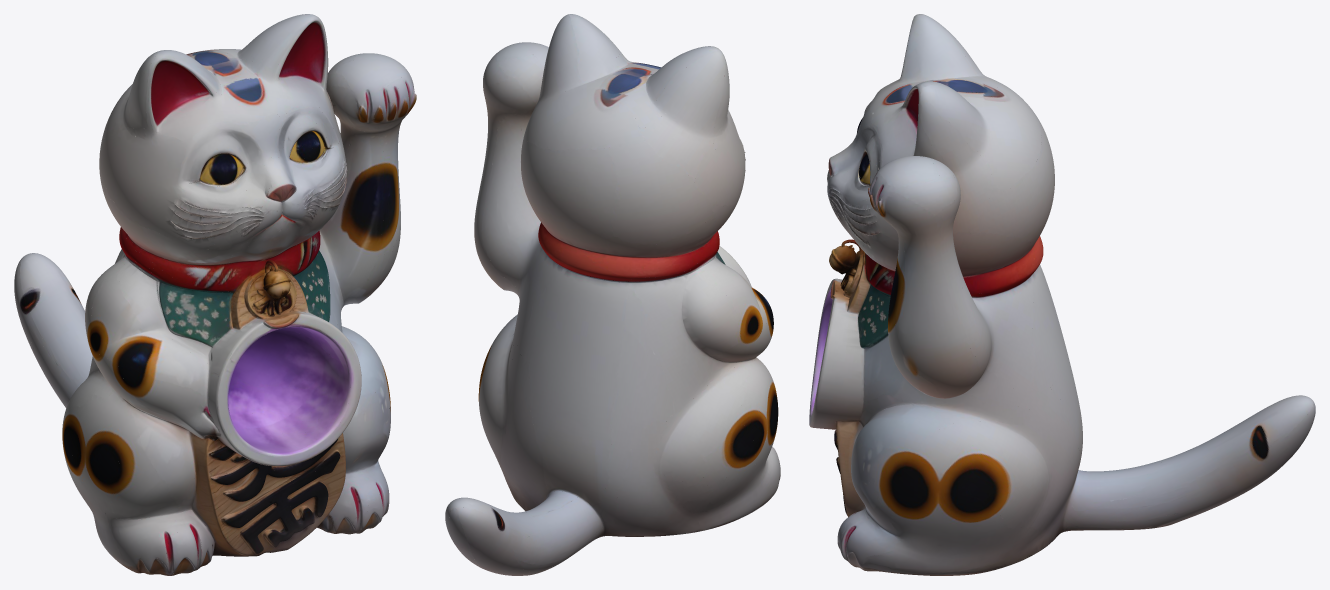
File: katze.glb
3 renders of one model, left to right at view 1: azimuth 30°, elevation 25°; view 2: azimuth 150°, elevation 25°; view 3: azimuth 270°, elevation 25°, orthographic. The views are drawn at different scales.
Visible parts, largest first — view 1: material; view 2: material; view 3: material.
Part boxes in pixels (x1,y1,x2,y2): material: (14,14,416,575); material: (445,14,780,575); material: (809,14,1315,575).
Bounding box in the file's own units: 0.5863 × 0.8838 × 0.8624.
Materials: 1 (1 with a texture image).
